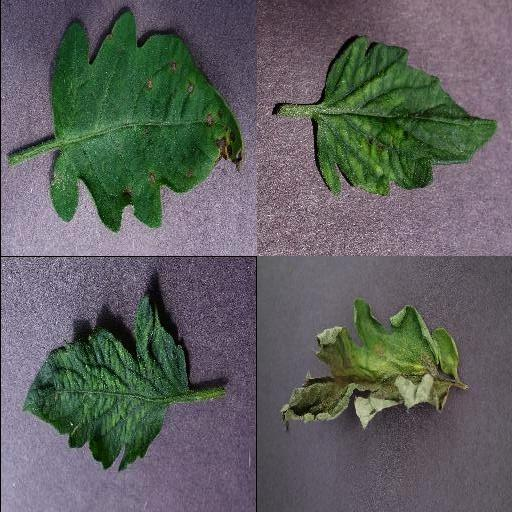Late Blight: (276, 298, 462, 436)
Mosaic Virus: (21, 291, 191, 471), (313, 34, 499, 198)
Septoria: (48, 11, 244, 234)
